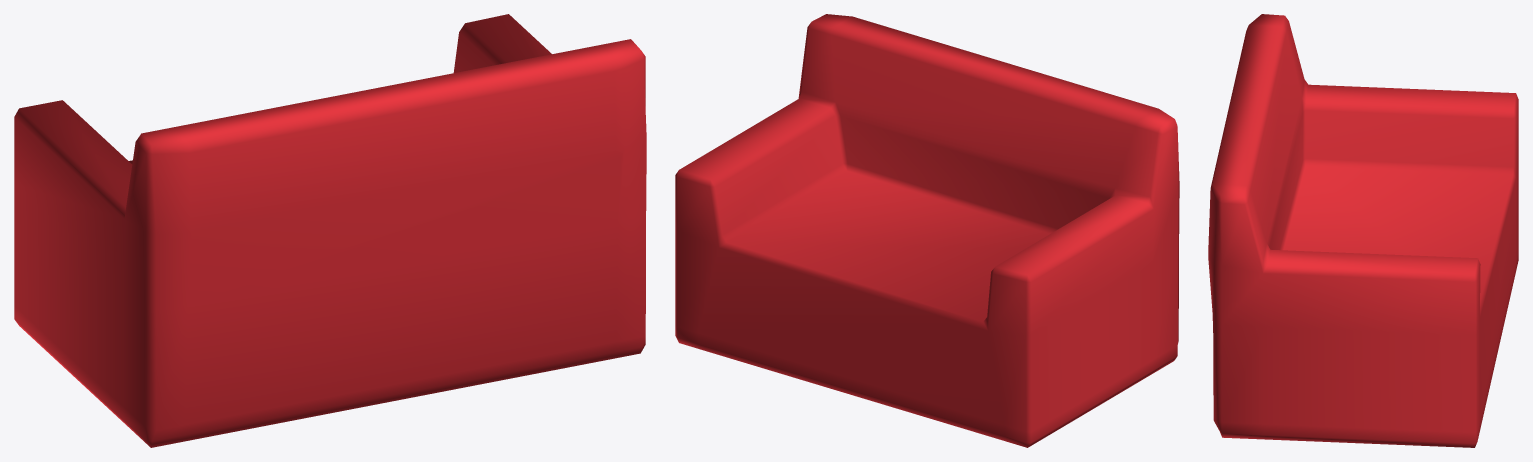
File: sofa.fbx
The picture shows the model from 3 angles, left to right: view 1: azimuth 30°, elevation 25°; view 2: azimuth 150°, elevation 25°; view 3: azimuth 270°, elevation 25°; orthographic projection. The views are drawn at different scales.
Visible parts, largest first — view 1: Sofa; view 2: Sofa; view 3: Sofa.
Part boxes in pixels (bbox=[...]): Sofa: bbox=[14, 14, 646, 447]; Sofa: bbox=[675, 14, 1179, 447]; Sofa: bbox=[1208, 14, 1518, 447].
Size of the model in its own units: 156 by 90.38 by 105.
